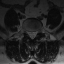CCS_normal: (31, 29, 33, 40)
LFS_normal: (36, 27, 39, 35)
LLS_normal: (33, 29, 36, 38)
RFS_normal: (25, 28, 28, 35)
RLS_normal: (28, 29, 31, 38)
